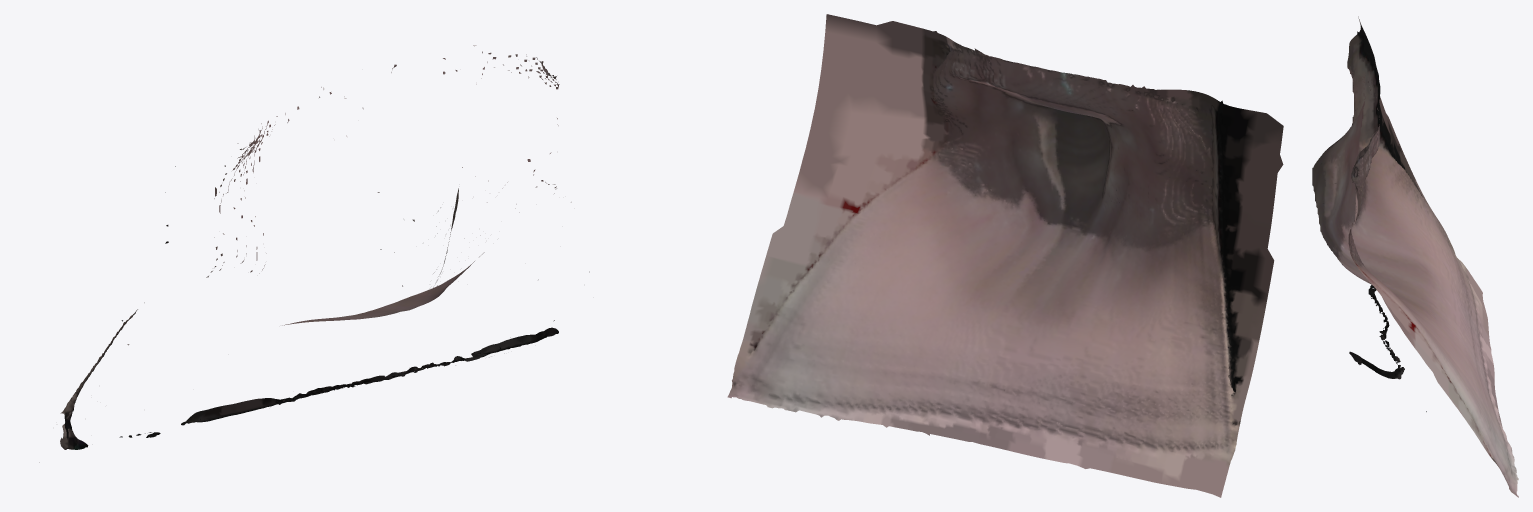
3 views of the same model, side by side, from view 1: azimuth 30°, elevation 25°; view 2: azimuth 150°, elevation 25°; view 3: azimuth 270°, elevation 25° (orthographic). The views are drawn at different scales.
Bounding box in the file's own units: 0.00141 × 0.000936 × 0.000601.
